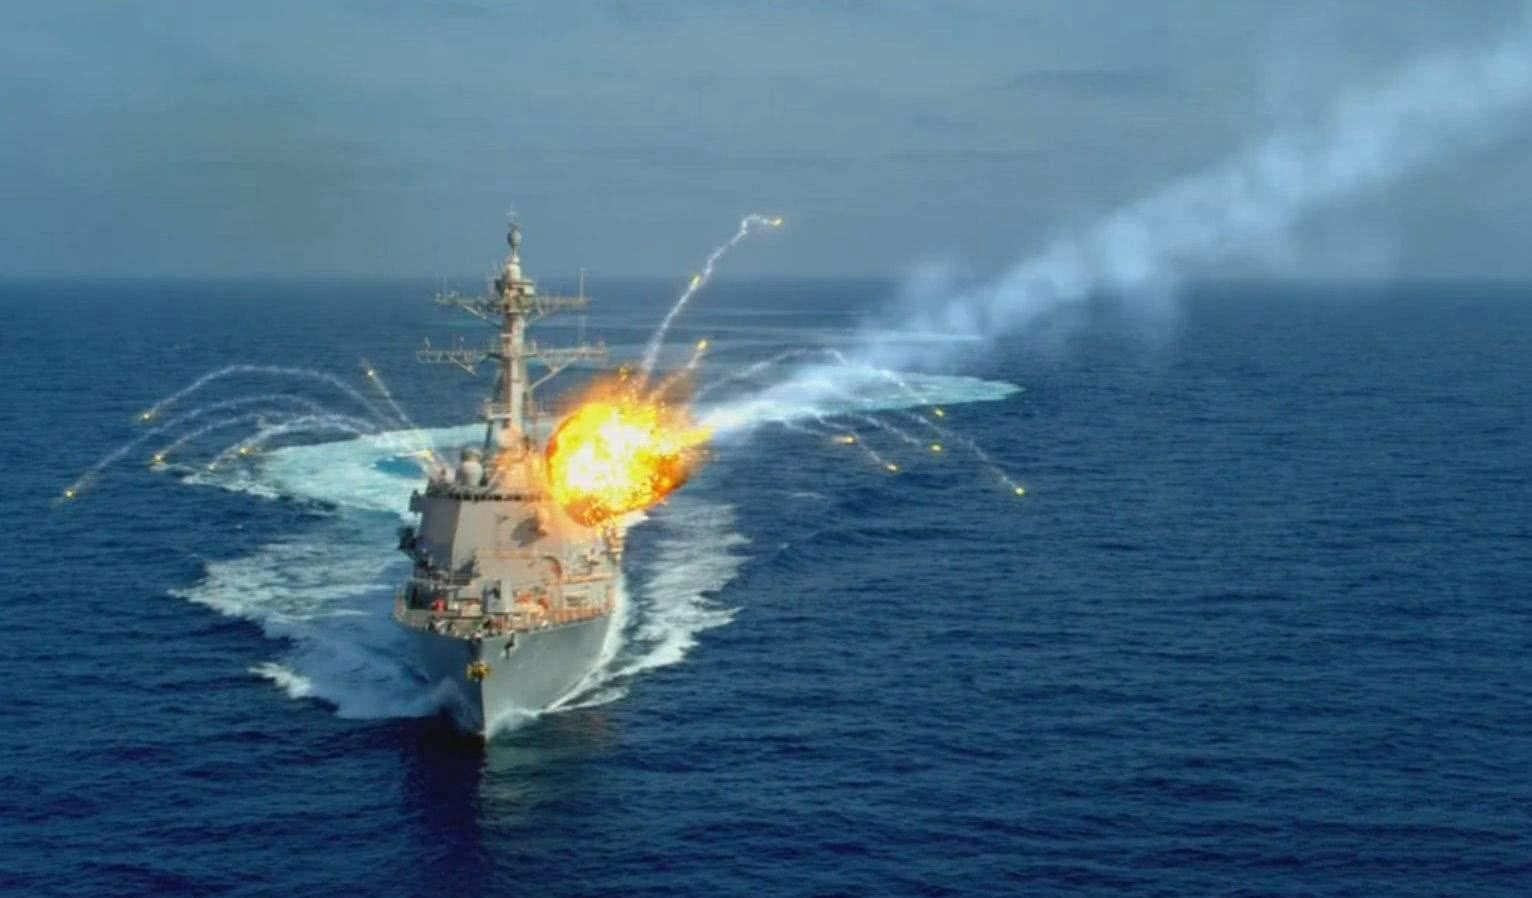warship: (361, 188, 638, 738)
